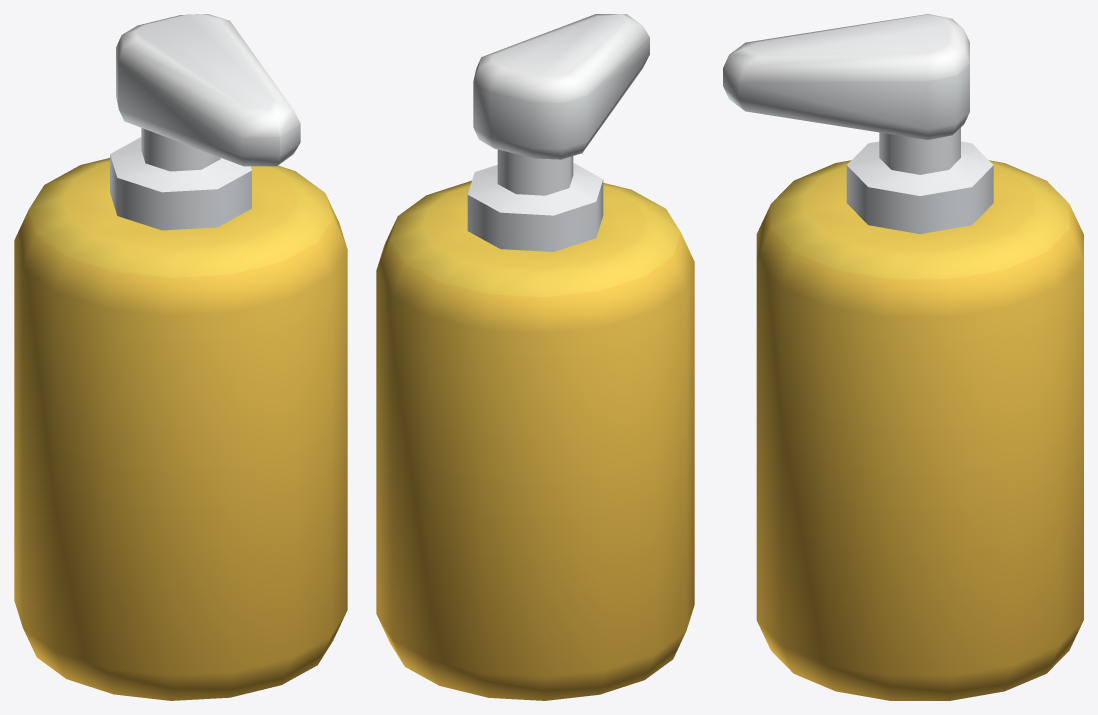
The model's file is container_bathroom_D_yellow.fbx.
The picture shows the model from 3 angles, left to right: view 1: azimuth 30°, elevation 25°; view 2: azimuth 150°, elevation 25°; view 3: azimuth 270°, elevation 25°; orthographic projection. The views are drawn at different scales.
Visible parts, largest first — view 1: container_bathroom_D_yellow; view 2: container_bathroom_D_yellow; view 3: container_bathroom_D_yellow.
Part boxes in pixels (x1,y1,x2,y2): container_bathroom_D_yellow: (14, 14, 347, 700); container_bathroom_D_yellow: (376, 14, 694, 700); container_bathroom_D_yellow: (723, 14, 1083, 700).
Size of the model in its own units: 0.312 by 0.65 by 0.3445.
